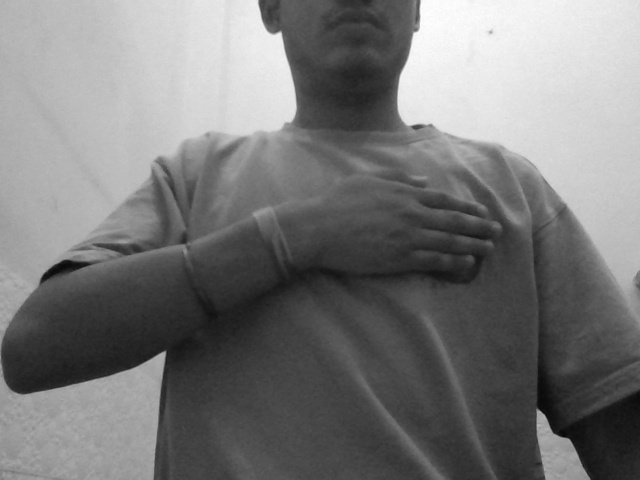Sorry: (309, 141, 543, 321)
